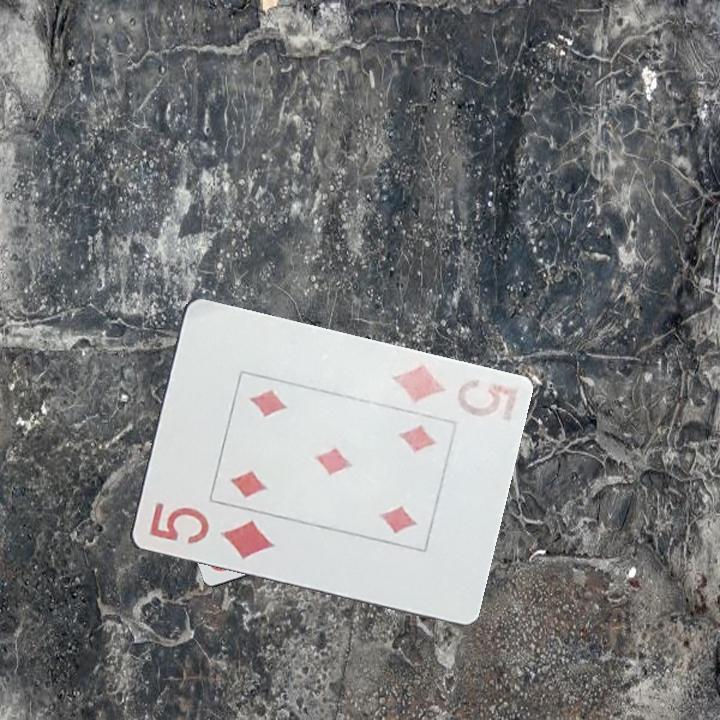5d: (145, 499, 277, 562), (387, 360, 505, 421)
